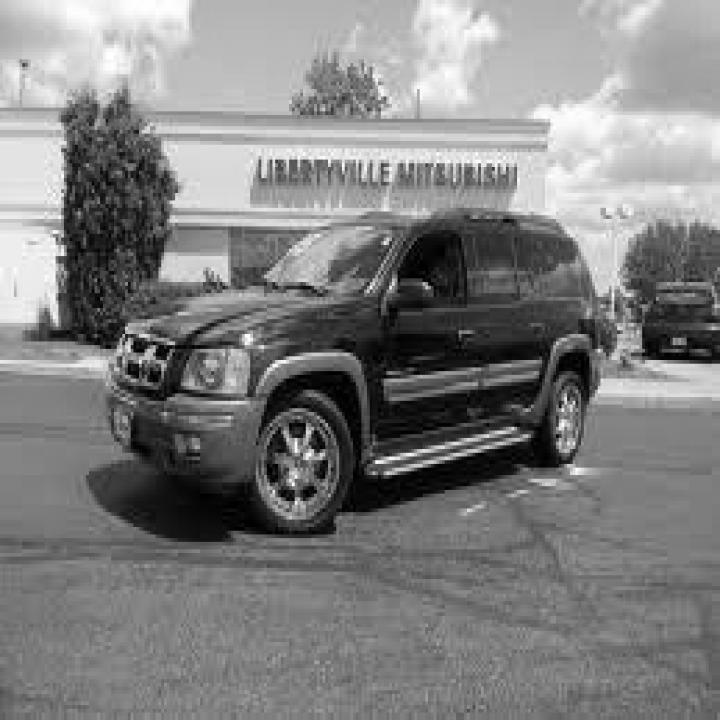car: (103, 200, 611, 534), (640, 278, 718, 360)
plat: (111, 404, 134, 453), (670, 337, 687, 346)
